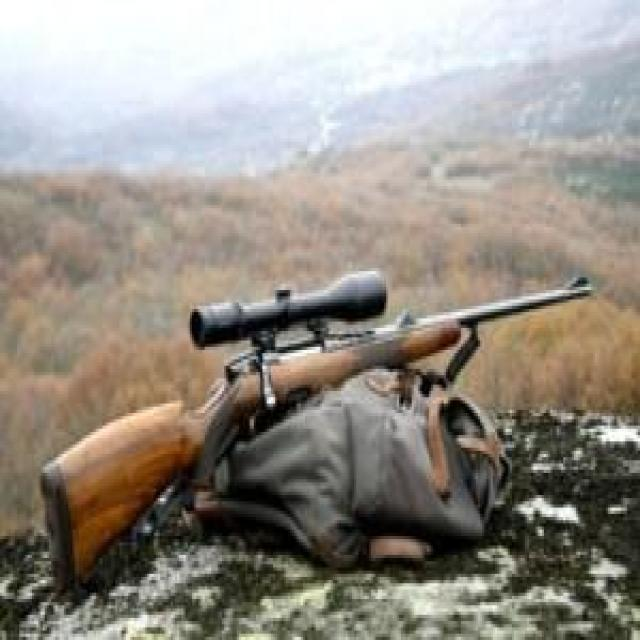weapon: (37, 266, 594, 594)
